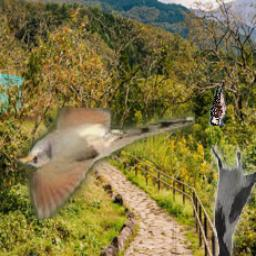Crow: (212, 145, 256, 256)
Cuckoo: (18, 109, 196, 220)
Woodpecker: (209, 81, 228, 127)
